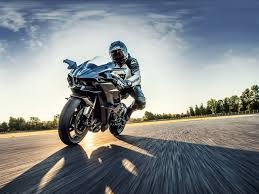motorcycle: (57, 55, 145, 146)
